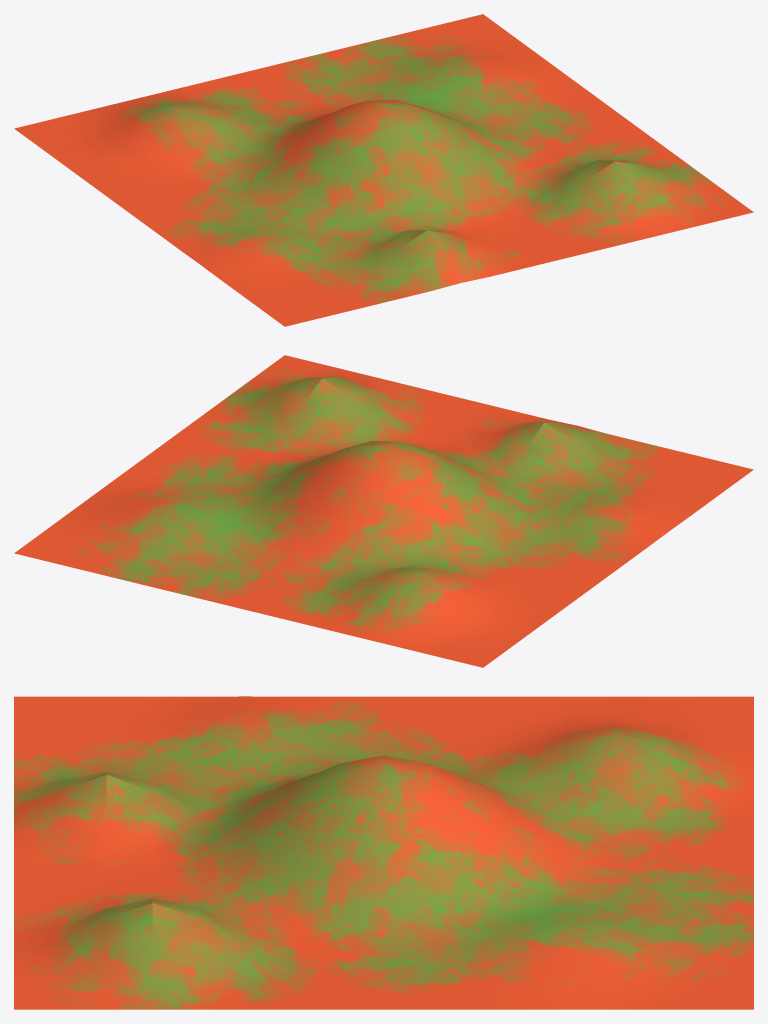
File: tile3.obj
3 views of the same model, one above another, from view 1: azimuth 30°, elevation 25°; view 2: azimuth 150°, elevation 25°; view 3: azimuth 270°, elevation 25° (orthographic). The views are drawn at different scales.
Visible parts, largest first — view 1: Tile3_Plane.006; view 2: Tile3_Plane.006; view 3: Tile3_Plane.006.
Boxes of the visible parts, x1=… form: Tile3_Plane.006: x1=14, y1=14, x2=753, y2=326; Tile3_Plane.006: x1=14, y1=355, x2=753, y2=667; Tile3_Plane.006: x1=14, y1=696, x2=753, y2=1009.
Size of the model in its own units: 30 by 3.95 by 30.
